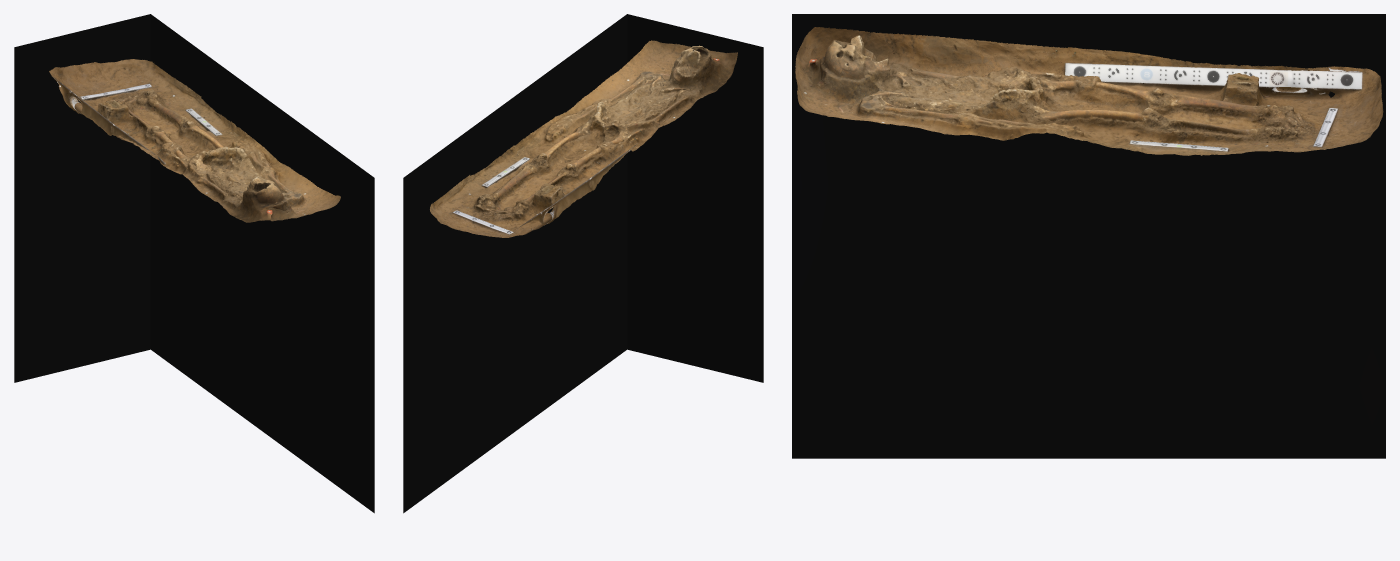
Rendered from jamestown.glb.
3 renders of one model, left to right at view 1: azimuth 30°, elevation 25°; view 2: azimuth 150°, elevation 25°; view 3: azimuth 270°, elevation 25°, orthographic. The views are drawn at different scales.
Bounding box in the file's own units: 0.7038 × 1.68 × 2.
Materials: 1 (1 with a texture image).
